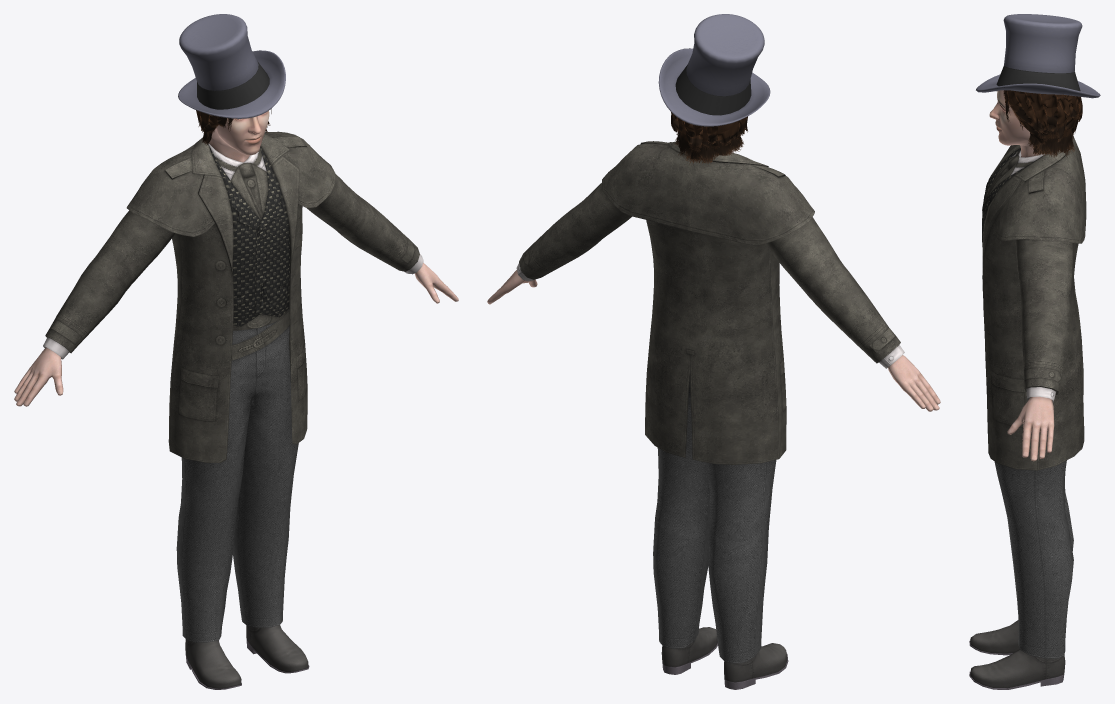
Rendered from Vic.obj.
3 views of the same model, side by side, from view 1: azimuth 30°, elevation 25°; view 2: azimuth 150°, elevation 25°; view 3: azimuth 270°, elevation 25° (orthographic).
Visible parts, largest first — view 1: Body, Hair, Face; view 2: Body, Hair; view 3: Body, Hair, Face.
Boxes of the visible parts, x1=… form: Body: x1=14, y1=131, x2=458, y2=689; Hair: x1=178, y1=14, x2=285, y2=145; Face: x1=211, y1=110, x2=269, y2=155; Body: x1=487, y1=141, x2=940, y2=689; Hair: x1=658, y1=14, x2=770, y2=165; Body: x1=969, y1=135, x2=1086, y2=689; Hair: x1=976, y1=14, x2=1100, y2=158; Face: x1=989, y1=90, x2=1032, y2=146.
Bounding box in the file's own units: 1.44 × 2 × 0.3685.
